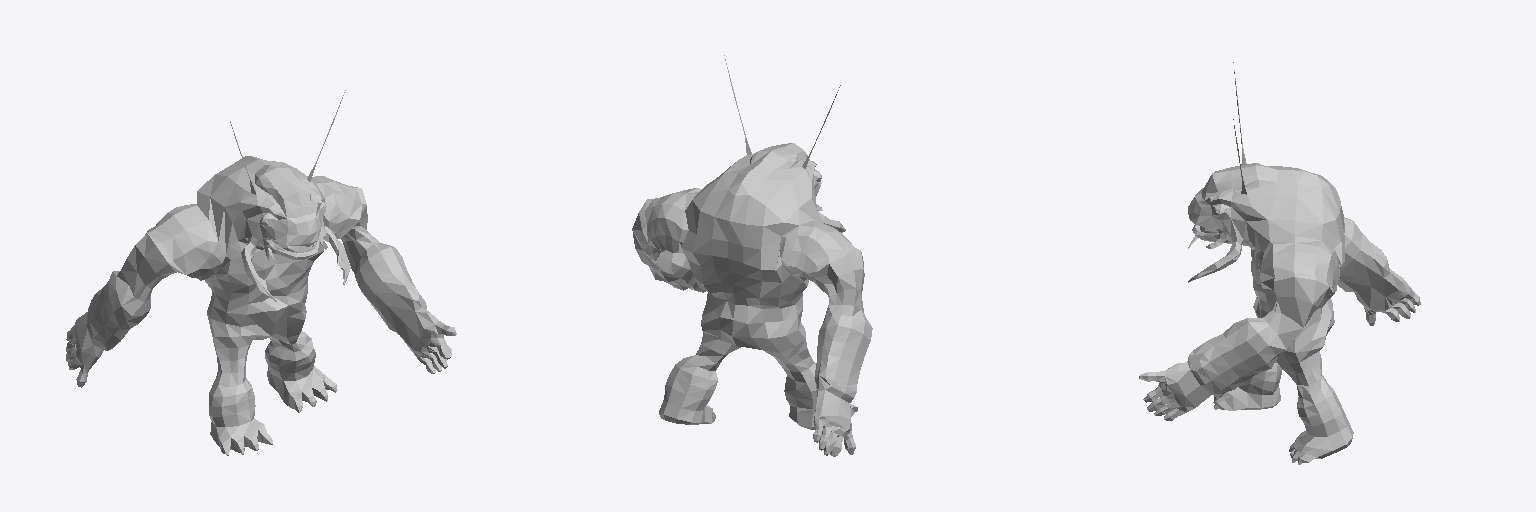
Rendered from Correr1.obj.
3 renders of one model, left to right at view 1: azimuth 30°, elevation 25°; view 2: azimuth 150°, elevation 25°; view 3: azimuth 270°, elevation 25°, orthographic.
Visible parts, largest first — view 1: Umber_Hulk_1:Umber_Hulk_1; view 2: Umber_Hulk_1:Umber_Hulk_1; view 3: Umber_Hulk_1:Umber_Hulk_1.
Part boxes in pixels (bbox=[...]): Umber_Hulk_1:Umber_Hulk_1: bbox=[66, 90, 456, 455]; Umber_Hulk_1:Umber_Hulk_1: bbox=[632, 55, 872, 456]; Umber_Hulk_1:Umber_Hulk_1: bbox=[1139, 62, 1420, 464].
Size of the model in its own units: 101 by 126 by 93.05.